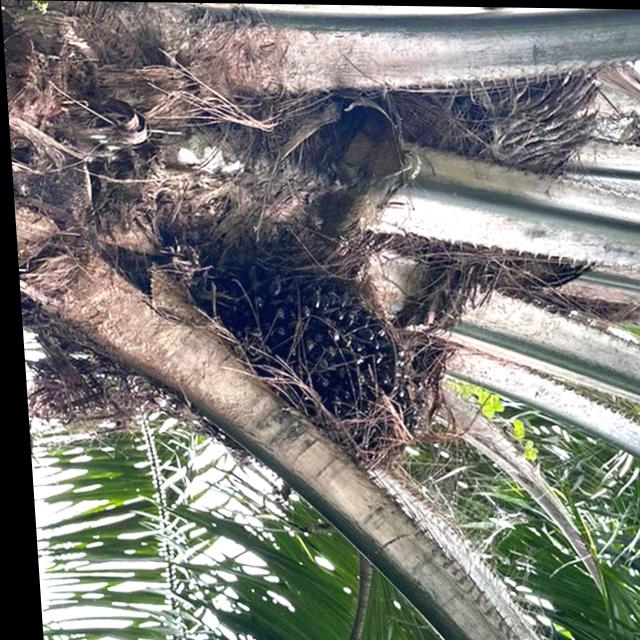unripe: (202, 243, 438, 484)
